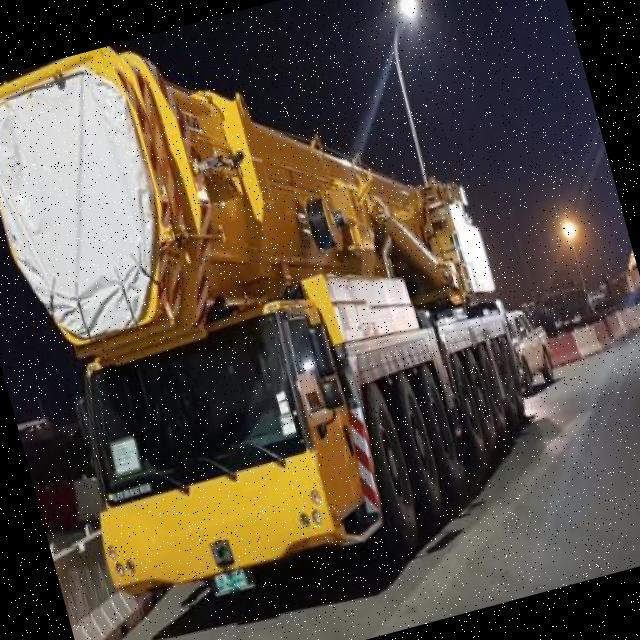Mobile Crane: (0, 0, 554, 627)
